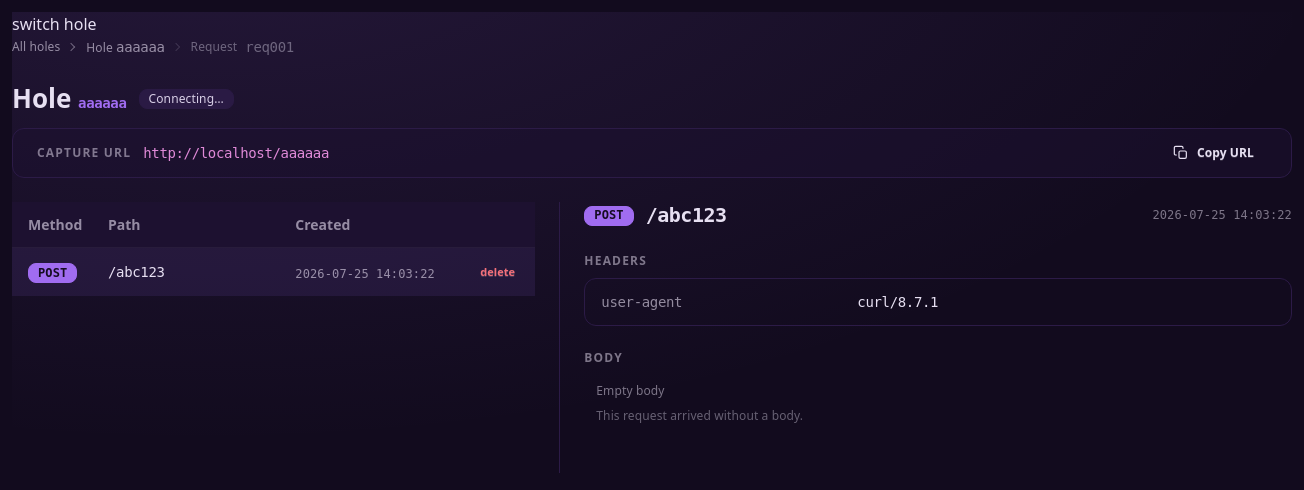
Scenario: Hole snapshot reconciliation › does not pull the reader back to a hole they have left
This screenshot has width=1304, height=490.
Expected: the link "/abc123" is shown, x1=108 y1=261 x2=165 y2=283
Step 1. Click the button "delete" → [498, 272], box x1=471 y1=260 x2=524 y2=284
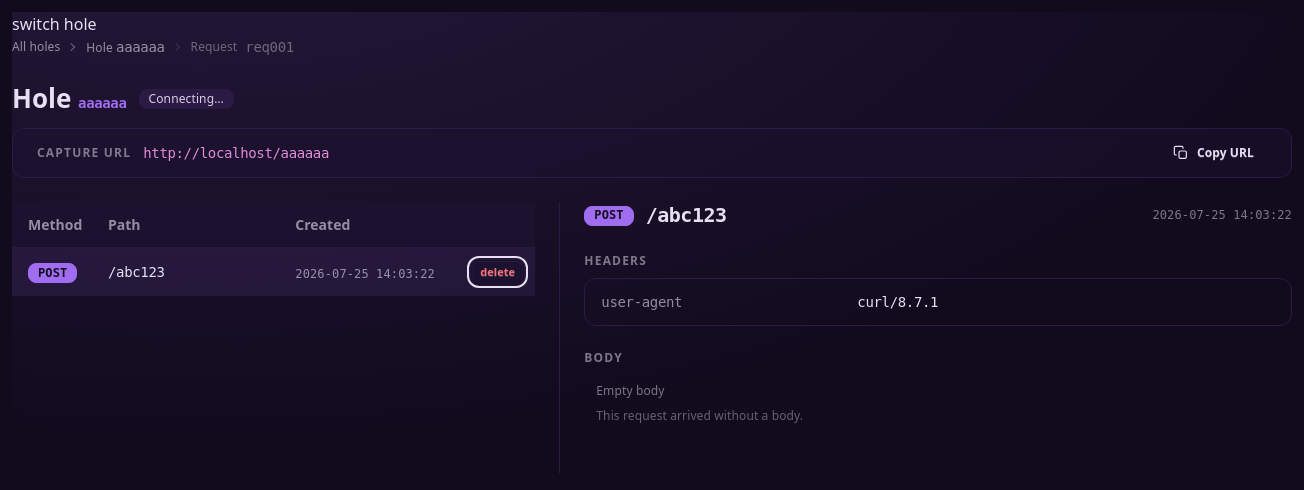
Step 2. Click the link "switch hole" → [54, 24], box x1=12 y1=13 x2=97 y2=35
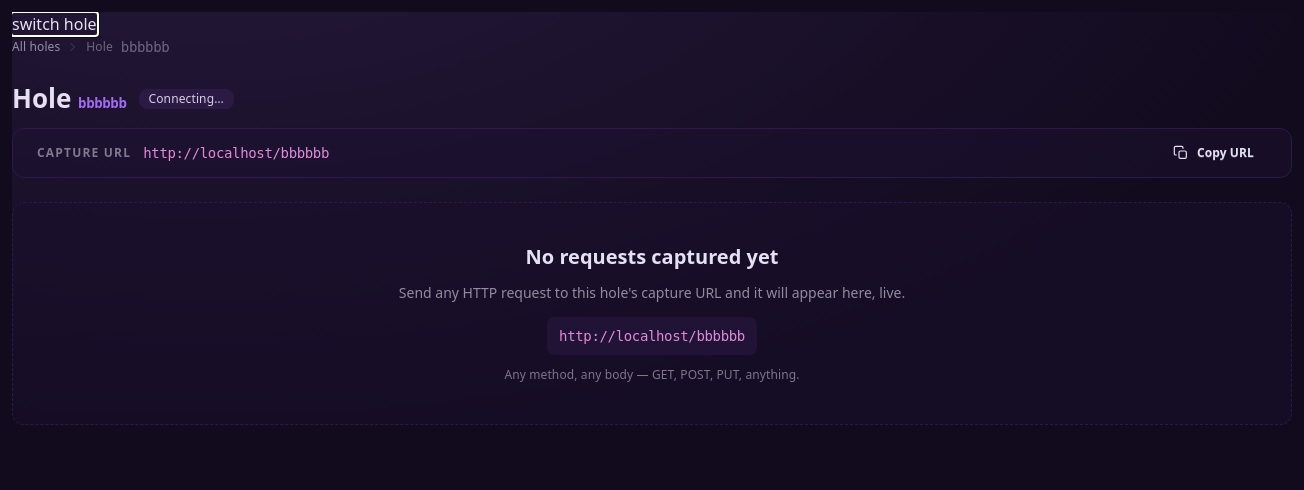
Now the heading "No requests captured yet" is shown, box x1=526 y1=243 x2=778 y2=270
Now the text "bbbbbb" in the row of "All holes" is shown, box x1=121 y1=39 x2=169 y2=55
